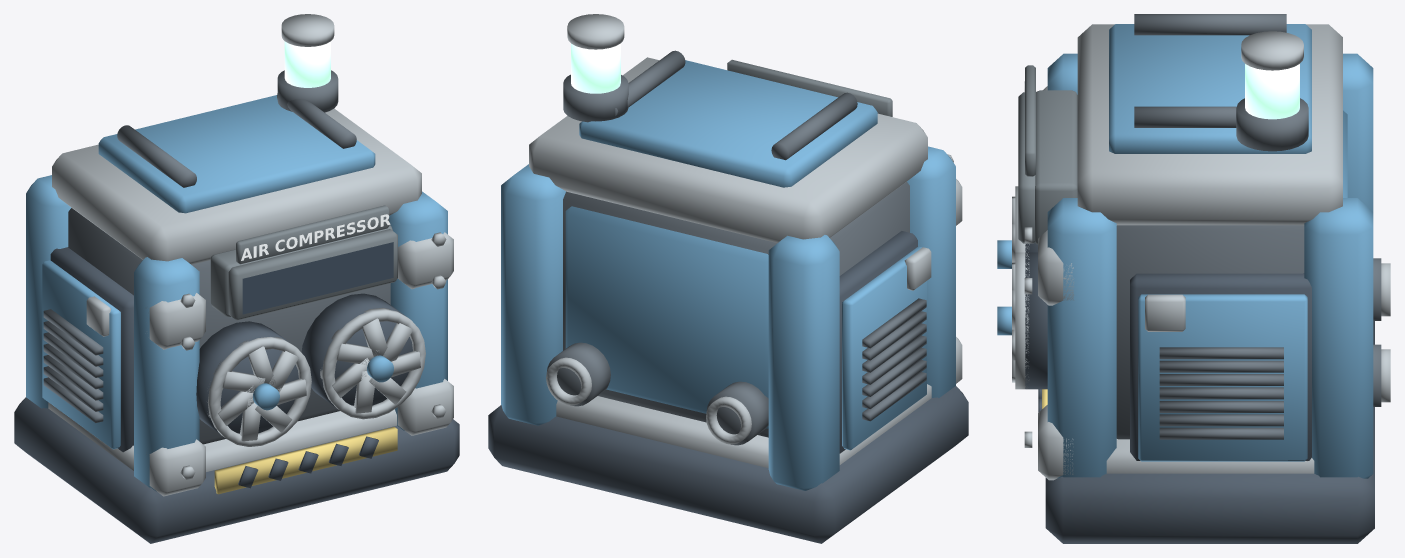
Rendered from air_compressor_enhanced.glb.
The picture shows the model from 3 angles, left to right: view 1: azimuth 30°, elevation 25°; view 2: azimuth 150°, elevation 25°; view 3: azimuth 270°, elevation 25°; orthographic projection. The views are drawn at different scales.
Parts seen in each view (by area): view 1: Frame_blue_legacy_4, Base_black_legacy_0, TopCap_steel_legacy_10, RoofPanel_blue_legacy_11, CornerGuard_steel_legacy_5, FanBlade_steel_legacy_15, Fan_black_legacy_13, Housing_dark_legacy_2, FanGuard_steel_legacy_14, ServiceDoor_blue_legacy_7, LiveViewSurface_glass, Skirt_steel_legacy_1 (+15 smaller); view 2: Frame_blue_legacy_4, Armor_blue_legacy_3, Base_black_legacy_0, TopCap_steel_legacy_10, RoofPanel_blue_legacy_11, Housing_dark_legacy_2, ServiceDoor_blue_legacy_7, Skirt_steel_legacy_1, SideVents_dark_legacy_8, RearPort_dark_legacy_26, LiftRail_dark_legacy_12, SidePanel_black_legacy_6 (+7 smaller); view 3: Frame_blue_legacy_4, TopCap_steel_legacy_10, Base_black_legacy_0, ServiceDoor_blue_legacy_7, RoofPanel_blue_legacy_11, Housing_dark_legacy_2, SideVents_dark_legacy_8, SidePanel_black_legacy_6, LiftRail_dark_legacy_12, ScreenMount_frame, CornerGuard_steel_legacy_5, Skirt_steel_legacy_1 (+12 smaller).
Boxes of the visible parts, x1,y1,x2,y2 form: Frame_blue_legacy_4: [26, 175, 447, 491]; Base_black_legacy_0: [14, 397, 459, 543]; TopCap_steel_legacy_10: [52, 108, 421, 264]; RoofPanel_blue_legacy_11: [98, 95, 375, 213]; CornerGuard_steel_legacy_5: [146, 232, 453, 496]; FanBlade_steel_legacy_15: [218, 318, 420, 441]; Fan_black_legacy_13: [196, 293, 412, 434]; Housing_dark_legacy_2: [68, 208, 390, 444]; FanGuard_steel_legacy_14: [207, 307, 425, 446]; ServiceDoor_blue_legacy_7: [42, 260, 120, 449]; LiveViewSurface_glass: [242, 242, 393, 314]; Skirt_steel_legacy_1: [48, 402, 396, 471]; Frame_blue_legacy_4: [501, 146, 955, 490]; Armor_blue_legacy_3: [565, 206, 768, 428]; Base_black_legacy_0: [488, 386, 968, 543]; TopCap_steel_legacy_10: [529, 57, 927, 242]; RoofPanel_blue_legacy_11: [579, 60, 877, 187]; Housing_dark_legacy_2: [563, 182, 909, 437]; ServiceDoor_blue_legacy_7: [842, 246, 926, 450]; Skirt_steel_legacy_1: [556, 384, 931, 468]; SideVents_dark_legacy_8: [862, 298, 926, 421]; RearPort_dark_legacy_26: [547, 342, 768, 445]; LiftRail_dark_legacy_12: [615, 50, 857, 160]; SidePanel_black_legacy_6: [839, 231, 917, 453]; Frame_blue_legacy_4: [1047, 53, 1373, 478]; TopCap_steel_legacy_10: [1077, 24, 1342, 225]; Base_black_legacy_0: [1045, 321, 1374, 543]; ServiceDoor_blue_legacy_7: [1138, 294, 1307, 461]; RoofPanel_blue_legacy_11: [1109, 24, 1311, 153]; Housing_dark_legacy_2: [1116, 225, 1304, 439]; SideVents_dark_legacy_8: [1159, 347, 1283, 439]; SidePanel_black_legacy_6: [1130, 273, 1311, 460]; LiftRail_dark_legacy_12: [1134, 14, 1286, 127]; ScreenMount_frame: [1035, 90, 1077, 244]; CornerGuard_steel_legacy_5: [1038, 86, 1073, 480]; Skirt_steel_legacy_1: [1106, 439, 1314, 473].
Bounding box in the file's own units: 1.43 × 1.65 × 1.25.
